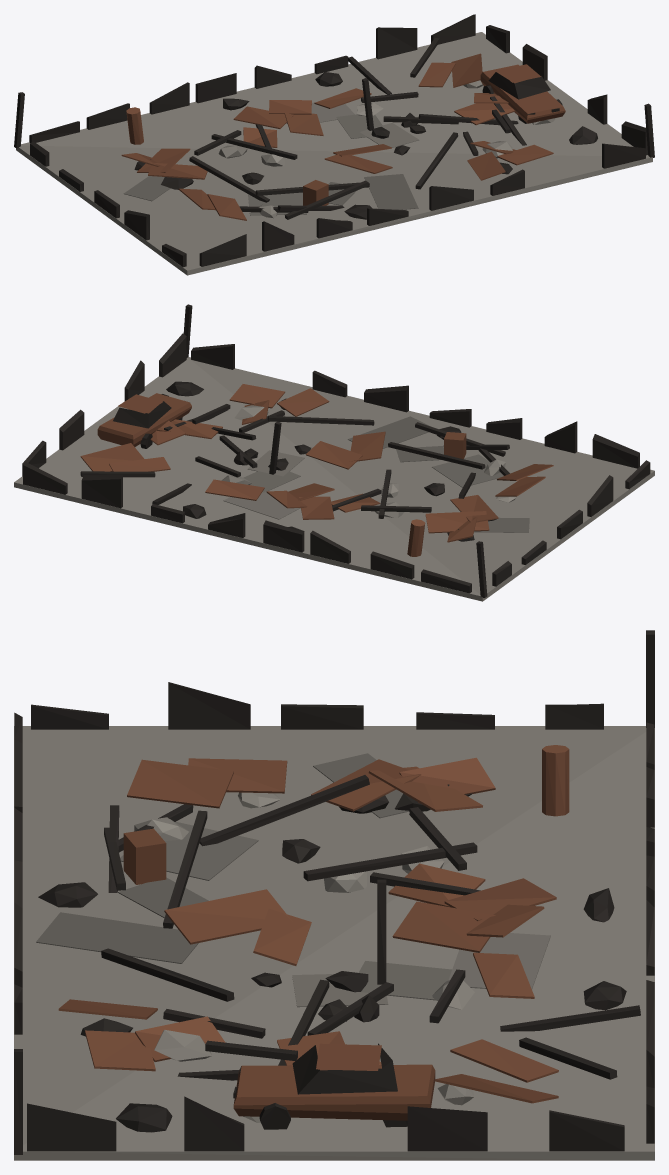
Rendered from ruin_22x14.glb.
3 renders of one model, top to bottom at view 1: azimuth 30°, elevation 25°; view 2: azimuth 150°, elevation 25°; view 3: azimuth 270°, elevation 25°, orthographic. The views are drawn at different scales.
Visible parts, largest first — view 1: ruin; view 2: ruin; view 3: ruin.
Part boxes in pixels (x1=…): ruin: x1=14, y1=14, x2=654, y2=275; ruin: x1=14, y1=304, x2=654, y2=601; ruin: x1=14, y1=630, x2=654, y2=1160.
Size of the model in its own units: 22.19 by 2.7 by 14.
